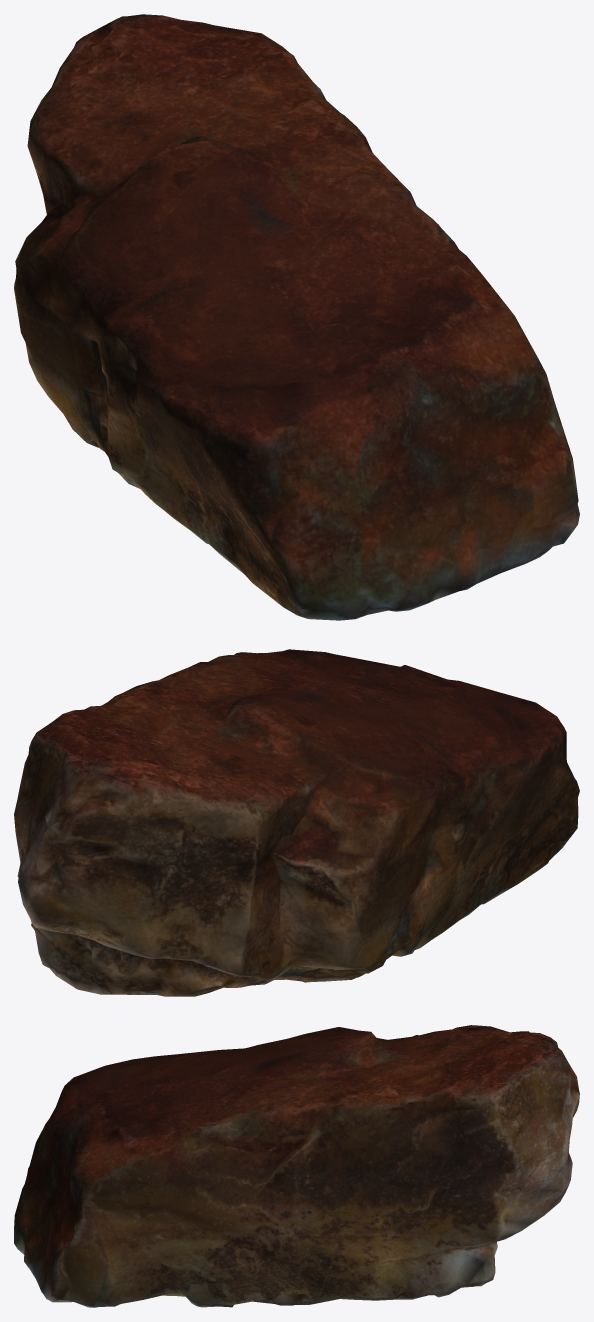
File: rock07-compact.glb
The picture shows the model from 3 angles, top to bottom: view 1: azimuth 30°, elevation 25°; view 2: azimuth 150°, elevation 25°; view 3: azimuth 270°, elevation 25°; orthographic projection. The views are drawn at different scales.
Parts seen in each view (by area): view 1: rock_07; view 2: rock_07; view 3: rock_07.
Part boxes in pixels (x1=…): rock_07: x1=14, y1=14, x2=579, y2=620; rock_07: x1=14, y1=649, x2=579, y2=996; rock_07: x1=14, y1=1025, x2=579, y2=1307.
Bounding box in the file's own units: 0.5247 × 0.4487 × 0.9987.
Materials: 1 (1 with a texture image).
